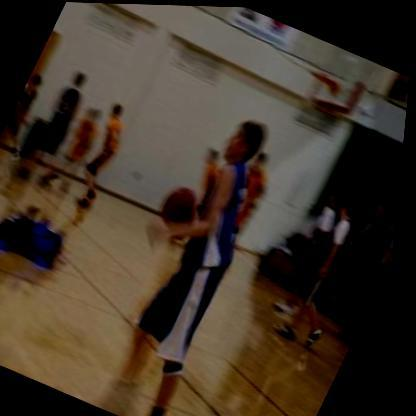basketball: (156, 174, 218, 237)
